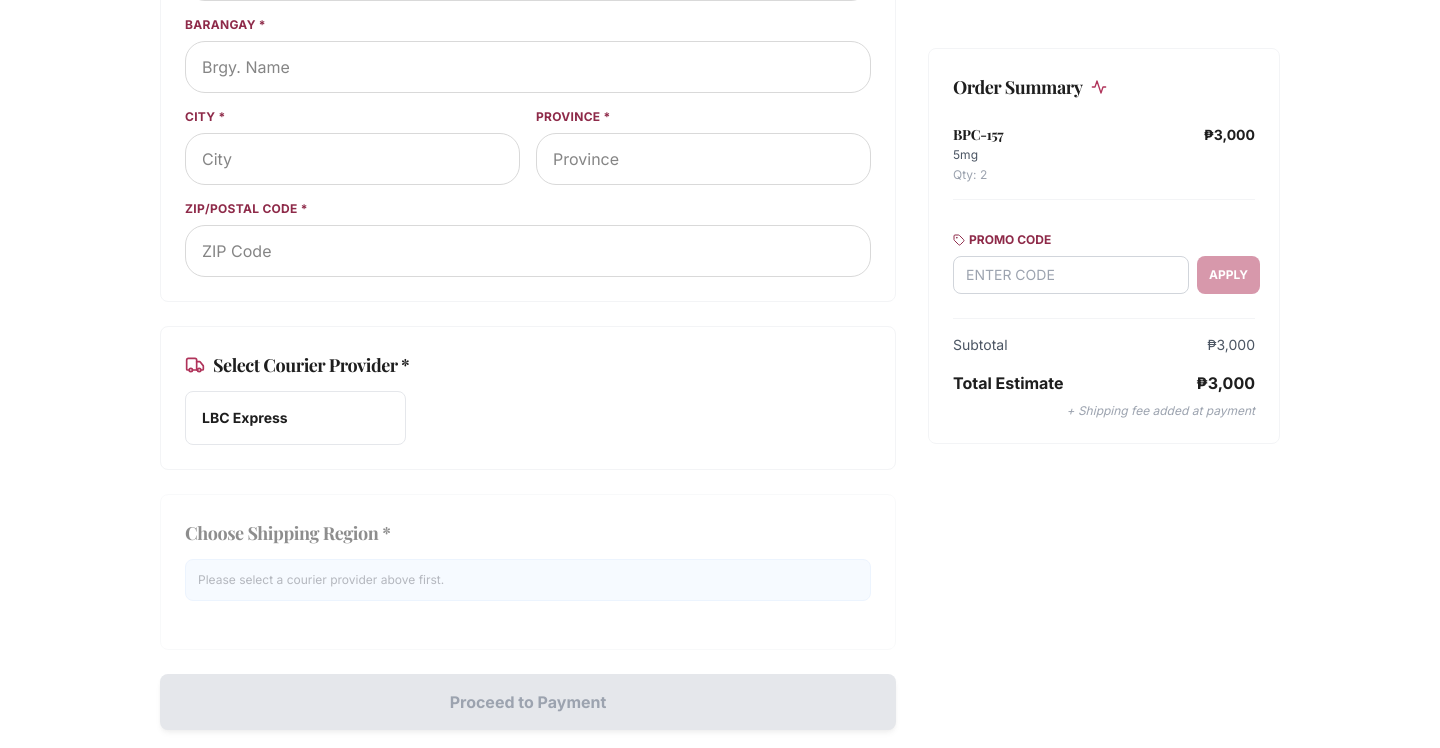
Test: Checkout › courier and shipping › shows shipping locations after selecting courier
(page scrolled)
// Select courier first
Click the button "LBC Express".
click(295, 418)  # box [185,391,406,445]
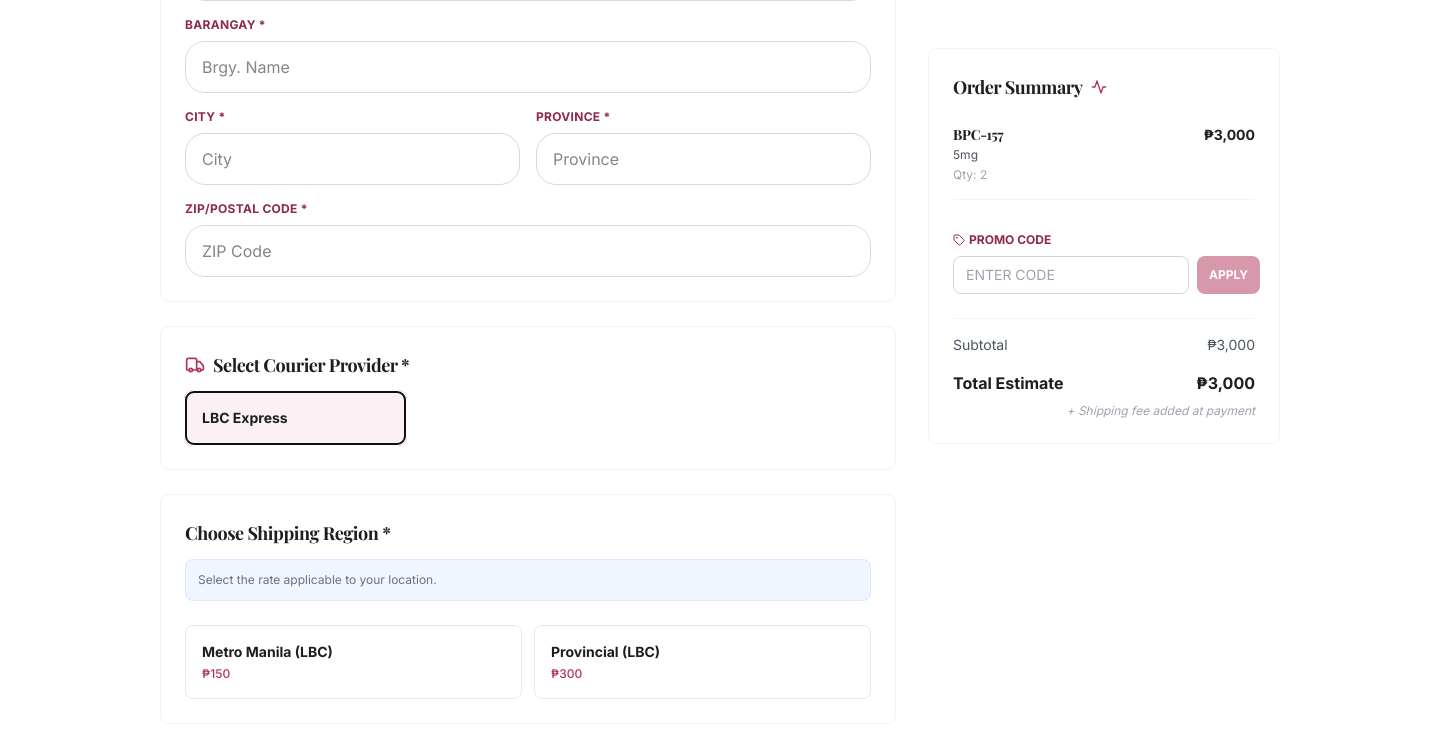
Check: the text "Metro Manila (LBC)" is shown, box [202,643,333,660]
Check: the text "Provincial (LBC)" is shown, box [551,643,660,660]
